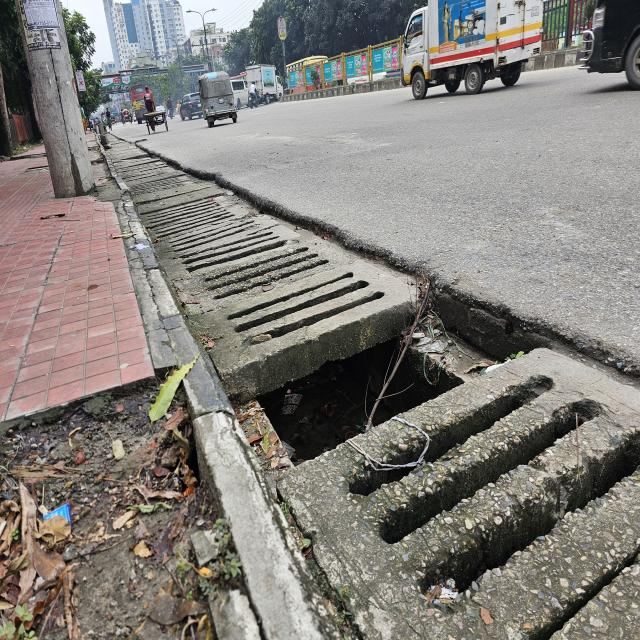drain_inlet: (245, 327, 460, 468)
